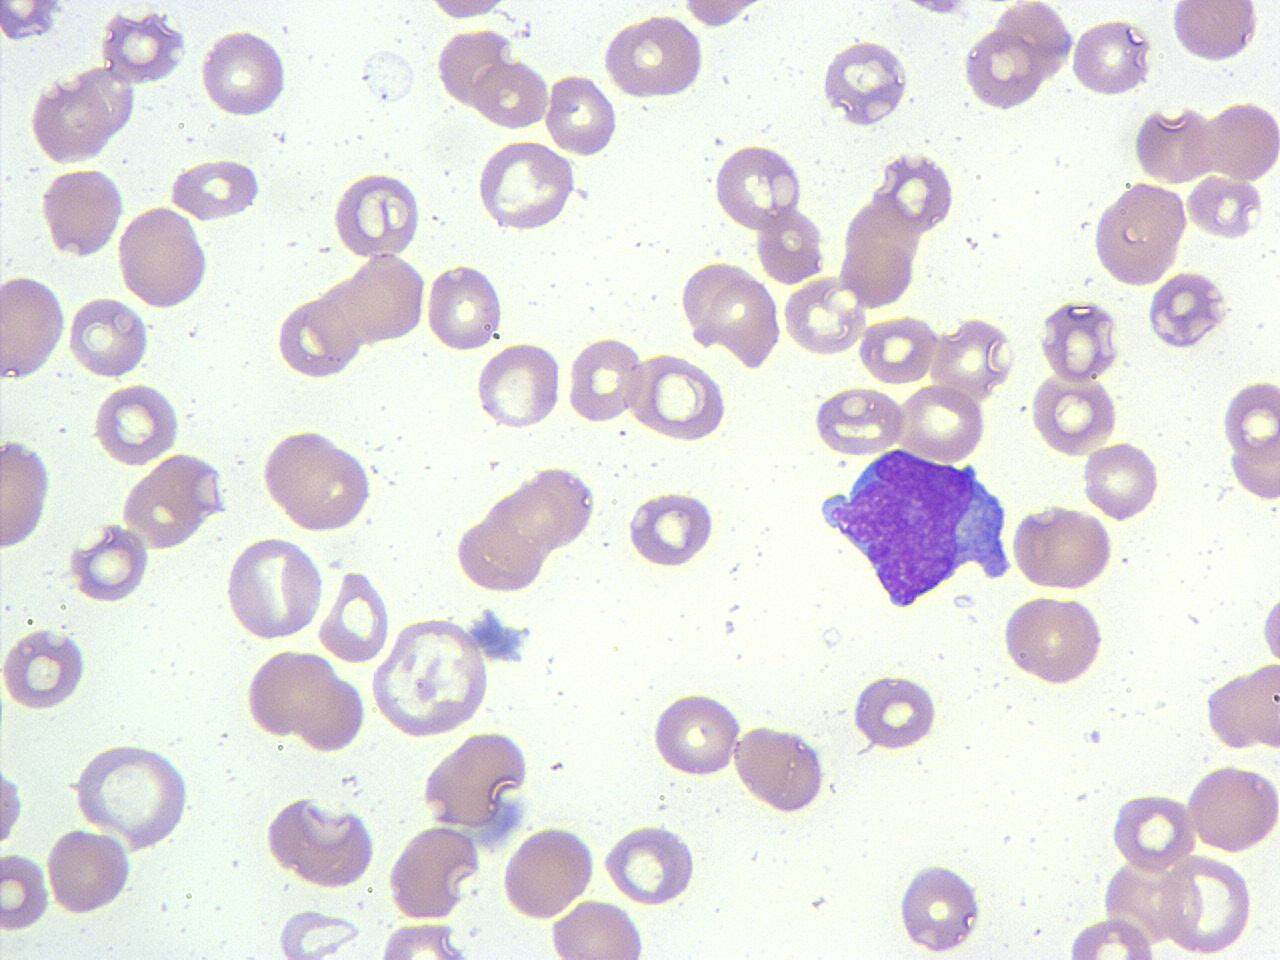Platelets: (359, 46, 417, 107), (0, 1, 62, 43), (478, 622, 530, 666), (466, 612, 500, 642), (479, 605, 501, 624)
RBC: (370, 616, 490, 740), (73, 739, 193, 850), (256, 426, 375, 535), (264, 792, 380, 892), (420, 728, 531, 831), (1090, 179, 1190, 287), (223, 534, 324, 642), (114, 203, 211, 311), (1161, 852, 1257, 956), (1000, 594, 1106, 688), (476, 138, 578, 233), (1008, 504, 1115, 594), (384, 824, 482, 922), (1184, 760, 1280, 857), (500, 823, 594, 922), (629, 350, 729, 443), (600, 12, 703, 101), (732, 722, 828, 816), (818, 37, 913, 129), (712, 142, 806, 234), (894, 858, 984, 955), (330, 169, 424, 260), (473, 338, 562, 434), (650, 691, 744, 781), (599, 822, 698, 906), (199, 26, 288, 119), (44, 824, 133, 918), (703, 268, 784, 370), (38, 165, 124, 260), (274, 292, 362, 380), (931, 314, 1017, 403), (624, 488, 718, 570), (92, 380, 180, 466), (1028, 372, 1118, 457), (30, 74, 112, 166), (850, 671, 942, 752), (316, 566, 392, 666), (290, 659, 368, 756), (565, 333, 645, 427), (424, 260, 504, 354), (0, 626, 87, 712), (1038, 296, 1122, 385), (1109, 790, 1199, 871), (896, 383, 988, 464), (0, 270, 66, 383), (1203, 658, 1279, 756), (452, 516, 546, 594), (959, 26, 1044, 112), (66, 294, 150, 380), (679, 257, 757, 350), (244, 646, 321, 740), (542, 69, 620, 159), (1081, 438, 1163, 523), (98, 7, 186, 86), (782, 276, 867, 358), (811, 384, 906, 456), (1133, 103, 1213, 186), (1145, 269, 1229, 349), (876, 151, 954, 236), (68, 524, 150, 604), (1071, 15, 1151, 98), (435, 25, 514, 109), (0, 435, 54, 554), (1206, 99, 1280, 185), (168, 157, 263, 222), (547, 898, 648, 959), (857, 314, 940, 386), (754, 204, 826, 284), (1184, 171, 1266, 243), (1168, 0, 1260, 63), (474, 55, 548, 131), (73, 63, 137, 141), (1222, 377, 1280, 463), (276, 907, 362, 959), (0, 848, 51, 934), (1064, 916, 1158, 959), (374, 920, 474, 958), (1228, 430, 1280, 502), (359, 45, 416, 106), (677, 0, 769, 30), (0, 1, 63, 43), (0, 754, 24, 856), (422, 0, 517, 23), (1259, 588, 1280, 672)
WBC: (815, 439, 1019, 611), (266, 794, 380, 894), (820, 35, 918, 130), (0, 1, 66, 41)
